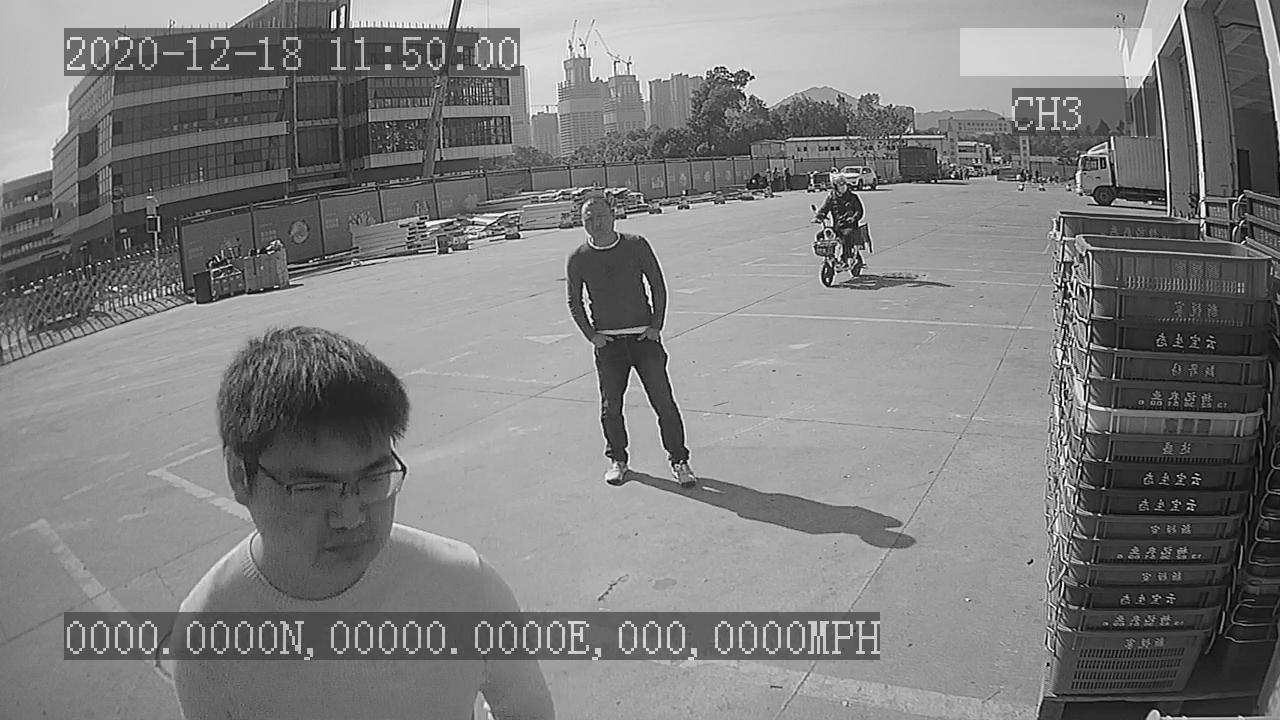person: (558, 194, 706, 494)
